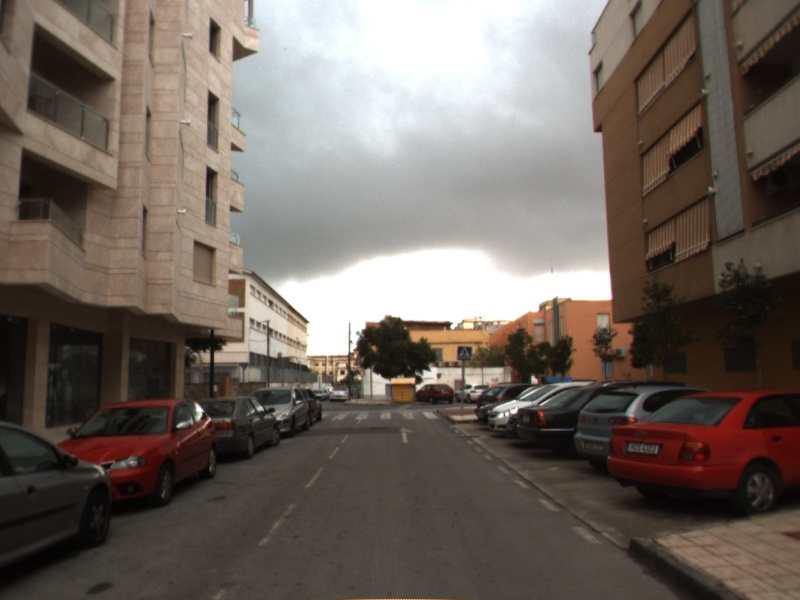STRAIGHT: (396, 425, 416, 445)
